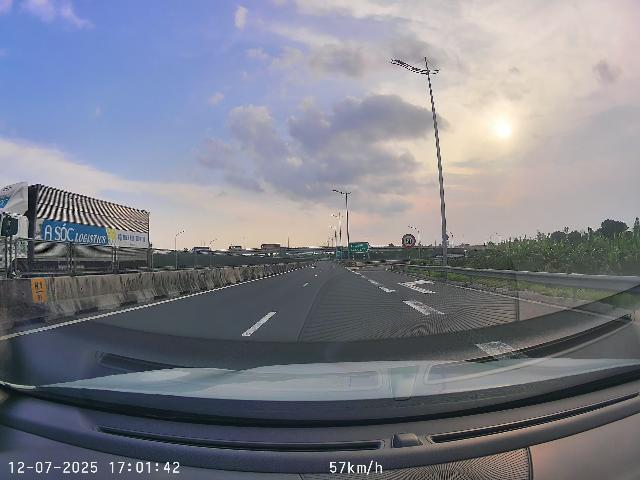127-toc-do-toi-da-50: (401, 233, 416, 248)
